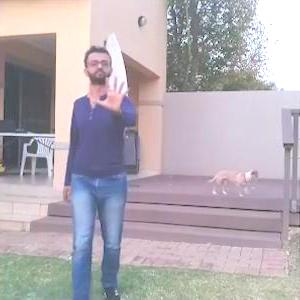follow_hand: (94, 69, 134, 115)
